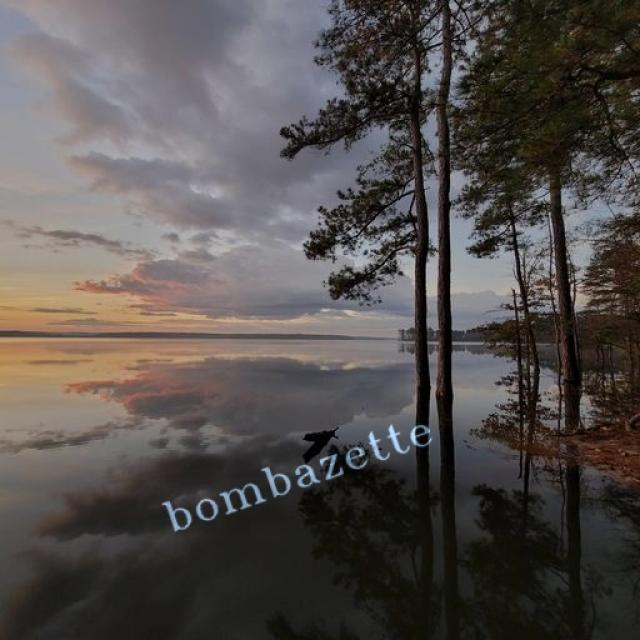watermark: (158, 409, 436, 540)
